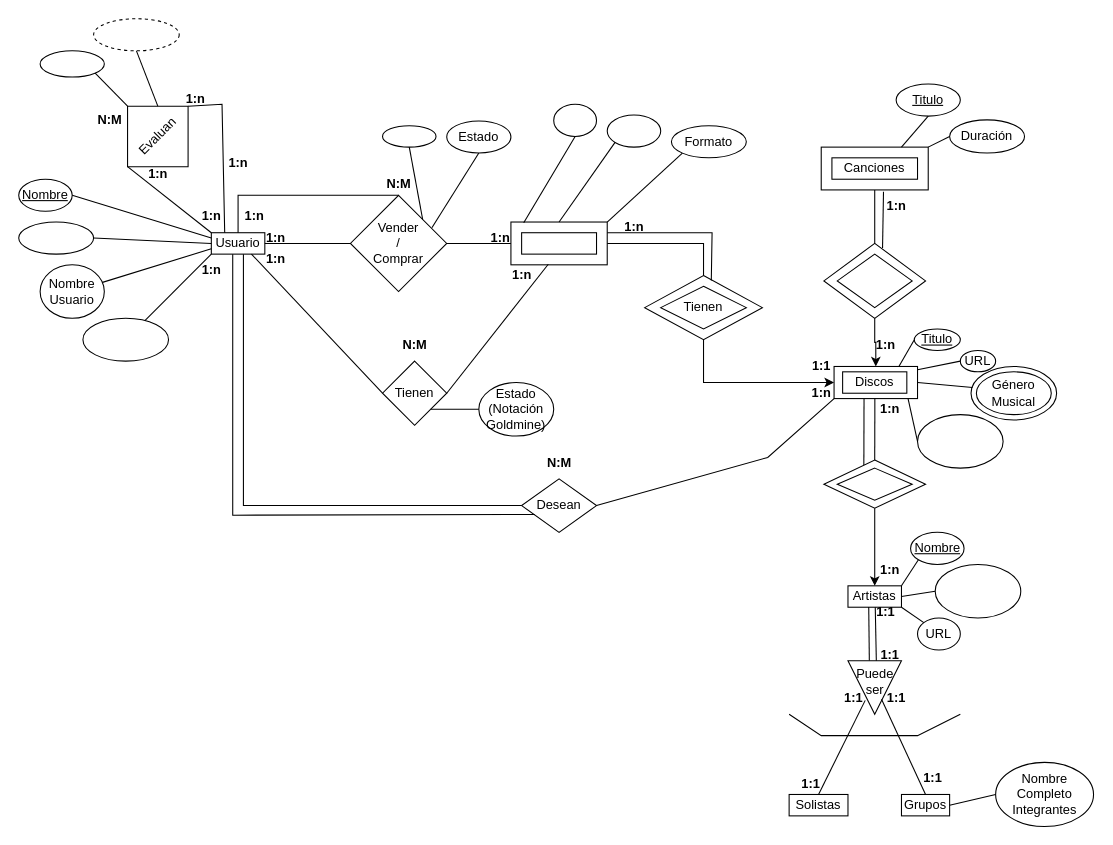
The diagram is 1113 pixels wide and 845 high, and some of its shapes have lost their labels. The centre of each missing label's shape, as x and y in pixels:
"Agrupan" goes at (x=874, y=280).
"Apellido" goes at (x=56, y=237).
"Año" goes at (x=575, y=119).
"Breve Descripción" goes at (x=977, y=590).
"Correo Electrónico" goes at (x=125, y=339).
"Ediciones" goes at (x=559, y=243).
"Evaluación" goes at (x=136, y=34).
"Fecha" goes at (x=408, y=136).
"Fecha de Lanzamiento" goes at (x=959, y=441).
"Grabado" goes at (x=874, y=483).
"País" goes at (x=633, y=130).
"Reseña" goes at (x=71, y=63).
